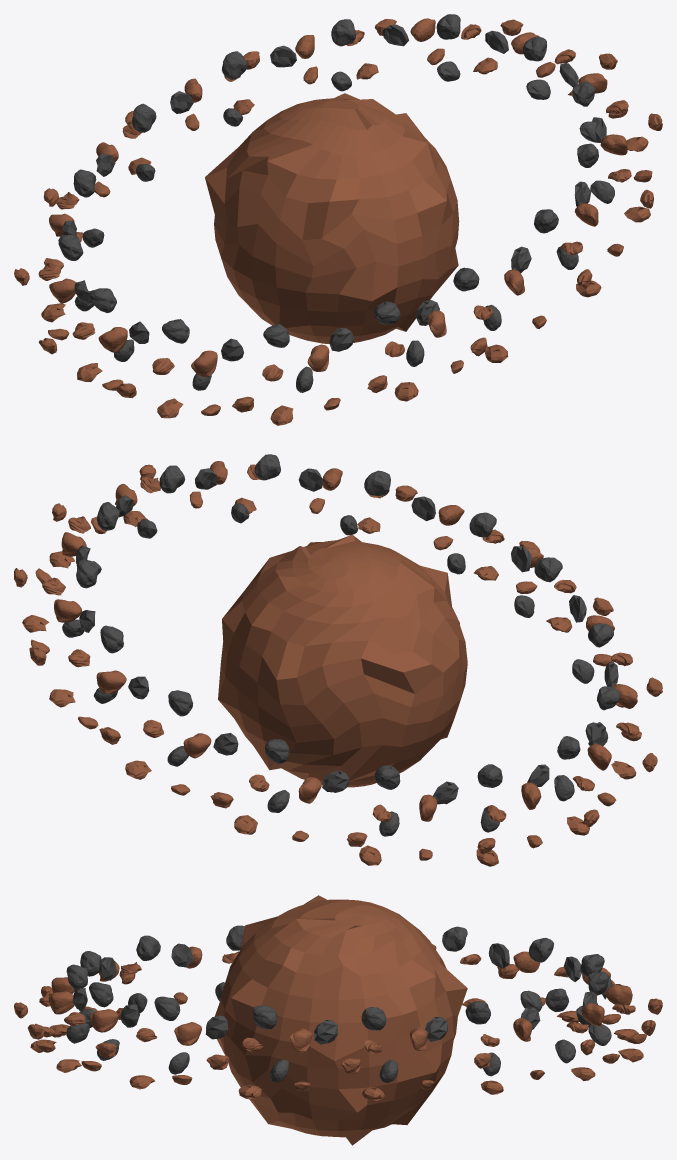
Rendered from Planet13.glb.
The picture shows the model from 3 angles, top to bottom: view 1: azimuth 30°, elevation 25°; view 2: azimuth 150°, elevation 25°; view 3: azimuth 270°, elevation 25°; orthographic projection. The views are drawn at different scales.
Visible parts, largest first — view 1: Planet13; view 2: Planet13; view 3: Planet13.
Boxes of the visible parts, <box> form: Planet13: <box>14,14,662,425</box>; Planet13: <box>14,454,662,866</box>; Planet13: <box>14,895,662,1145</box>.
Bounding box in the file's own units: 44.35 × 17.74 × 45.89.
Materials: 1 (1 with a texture image).
